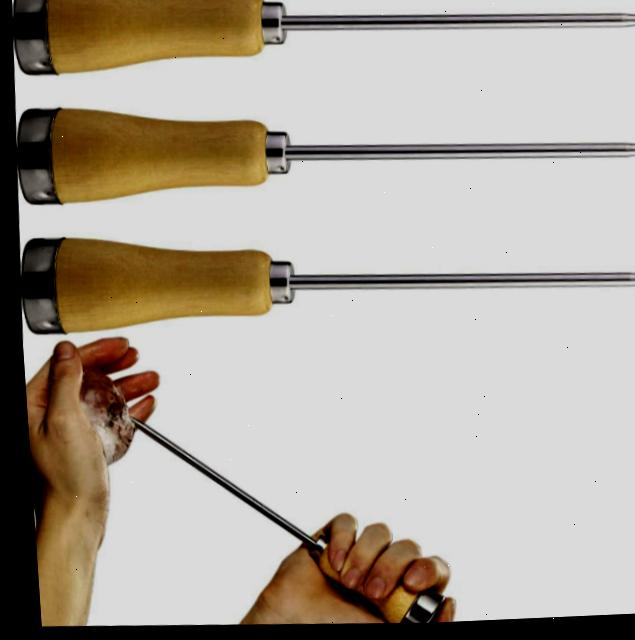ice pick: (12, 207, 635, 360), (10, 83, 635, 228), (112, 408, 446, 637), (8, 0, 635, 103)
